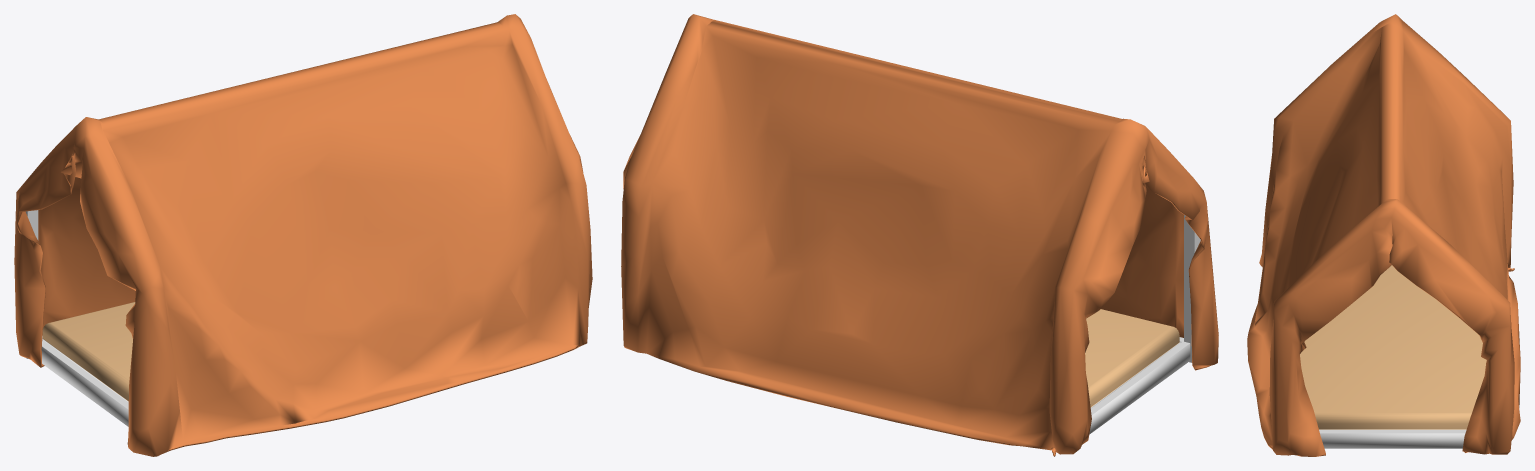
Rendered from Cama.fbx.
The picture shows the model from 3 angles, left to right: view 1: azimuth 30°, elevation 25°; view 2: azimuth 150°, elevation 25°; view 3: azimuth 270°, elevation 25°; orthographic projection. The views are drawn at different scales.
Parts seen in each view (by area): view 1: Cube; view 2: Cube; view 3: Cube.
Part boxes in pixels (<box>): Cube: <box>14,14,592,456</box>; Cube: <box>621,14,1218,456</box>; Cube: <box>1247,14,1520,456</box>.
Bounding box in the file's own units: 457 × 259 × 251.
